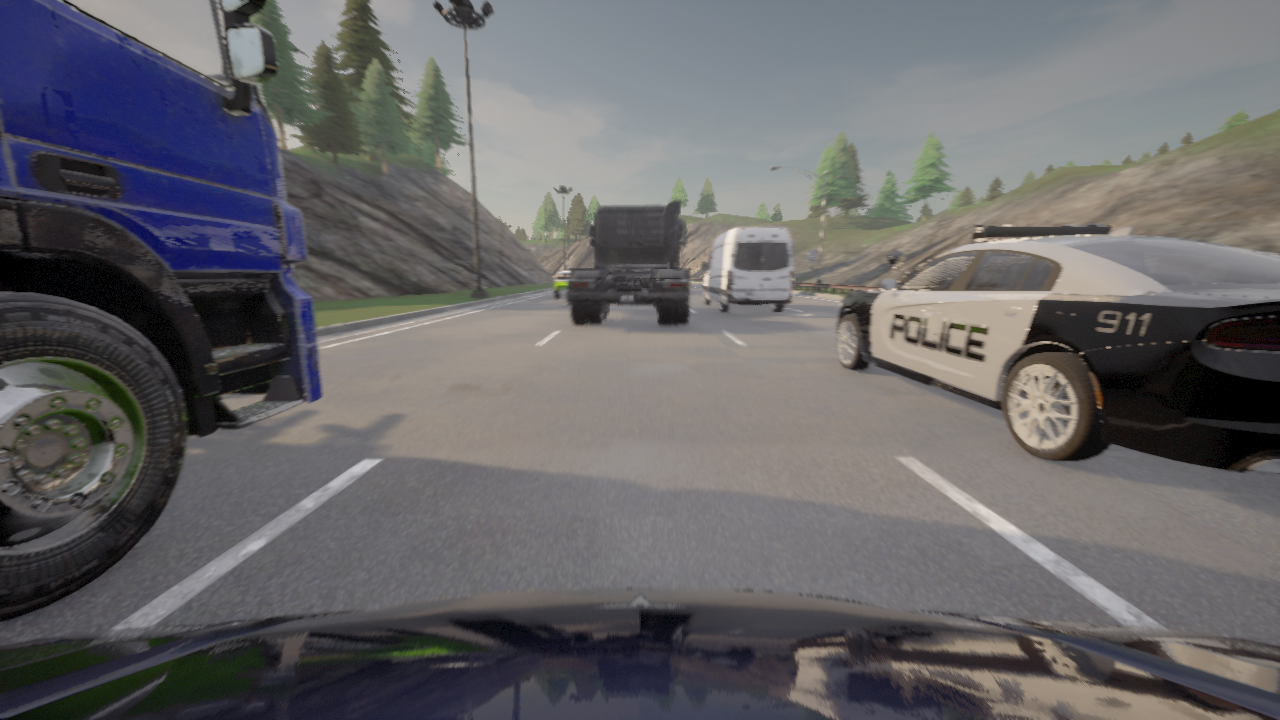cyclist: (0, 588, 1279, 719), (835, 224, 1279, 473), (567, 201, 690, 324), (701, 226, 792, 312), (554, 270, 569, 298)
